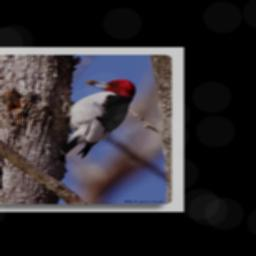Woodpecker: (59, 79, 136, 157)
